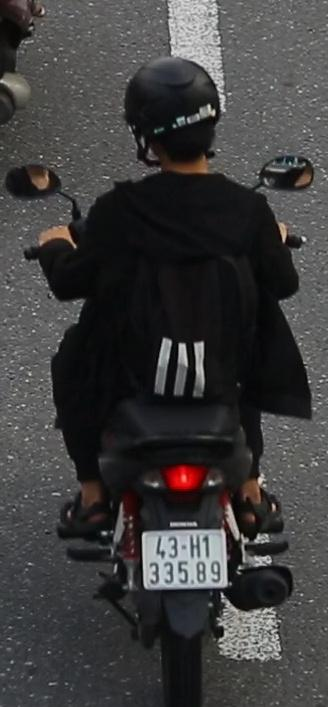LP: (138, 520, 230, 593)
helmet: (119, 50, 228, 183)
